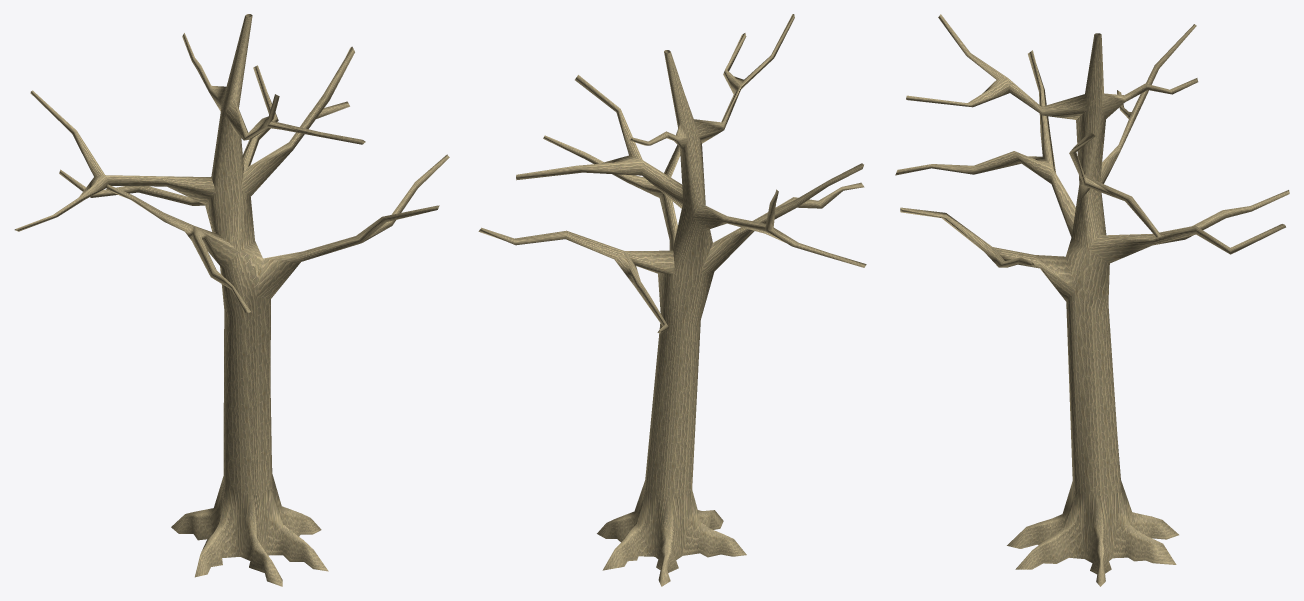
Rendered from INST_HTOWN_APPLETREE_LOD2.obj.
3 renders of one model, left to right at view 1: azimuth 30°, elevation 25°; view 2: azimuth 150°, elevation 25°; view 3: azimuth 270°, elevation 25°, orthographic. The views are drawn at different scales.
Parts seen in each view (by area): view 1: pleTree_Lod2_01; view 2: pleTree_Lod2_01; view 3: pleTree_Lod2_01.
Boxes of the visible parts, x1,y1,x2,y2 form: pleTree_Lod2_01: [14, 14, 449, 586]; pleTree_Lod2_01: [478, 14, 866, 586]; pleTree_Lod2_01: [895, 14, 1289, 586].
Size of the model in its own units: 336 by 440 by 304.
